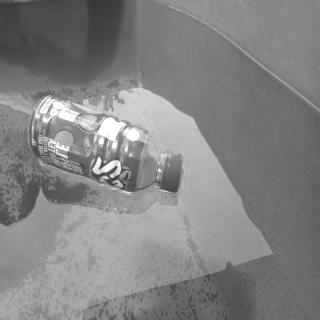bottle: (27, 90, 183, 192)
